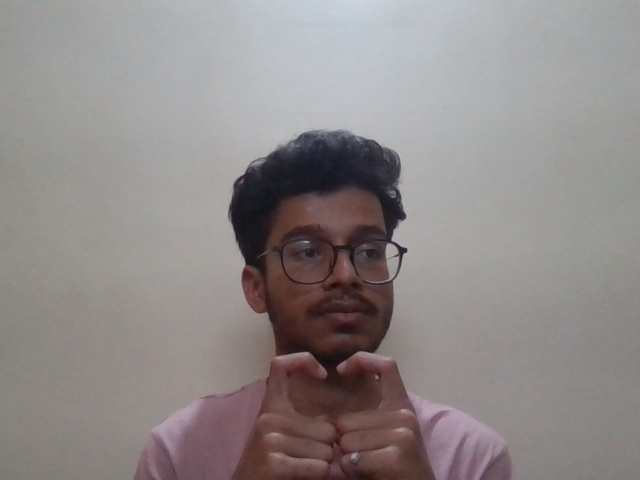who: (259, 341, 421, 452)
